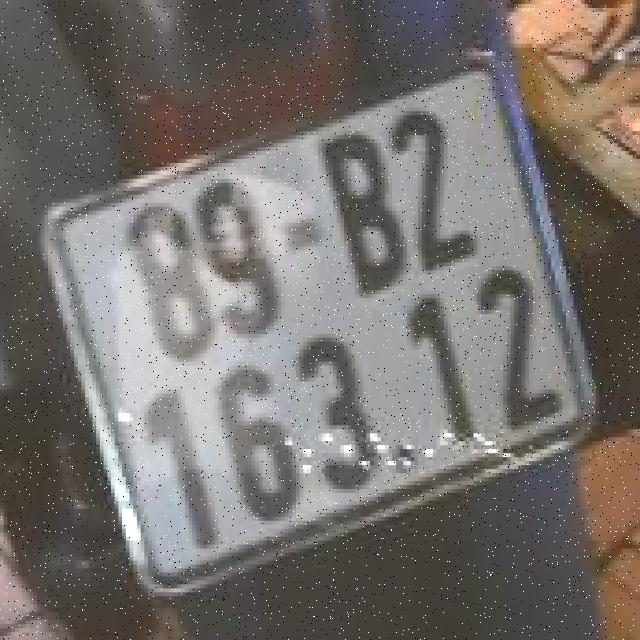1: (125, 375, 233, 565), (390, 283, 489, 462)
2: (463, 247, 573, 442), (376, 97, 490, 281)
3: (282, 322, 398, 501)
6: (201, 350, 316, 534)
8: (107, 192, 229, 371)
9: (183, 170, 292, 347)
B: (308, 114, 422, 312)
